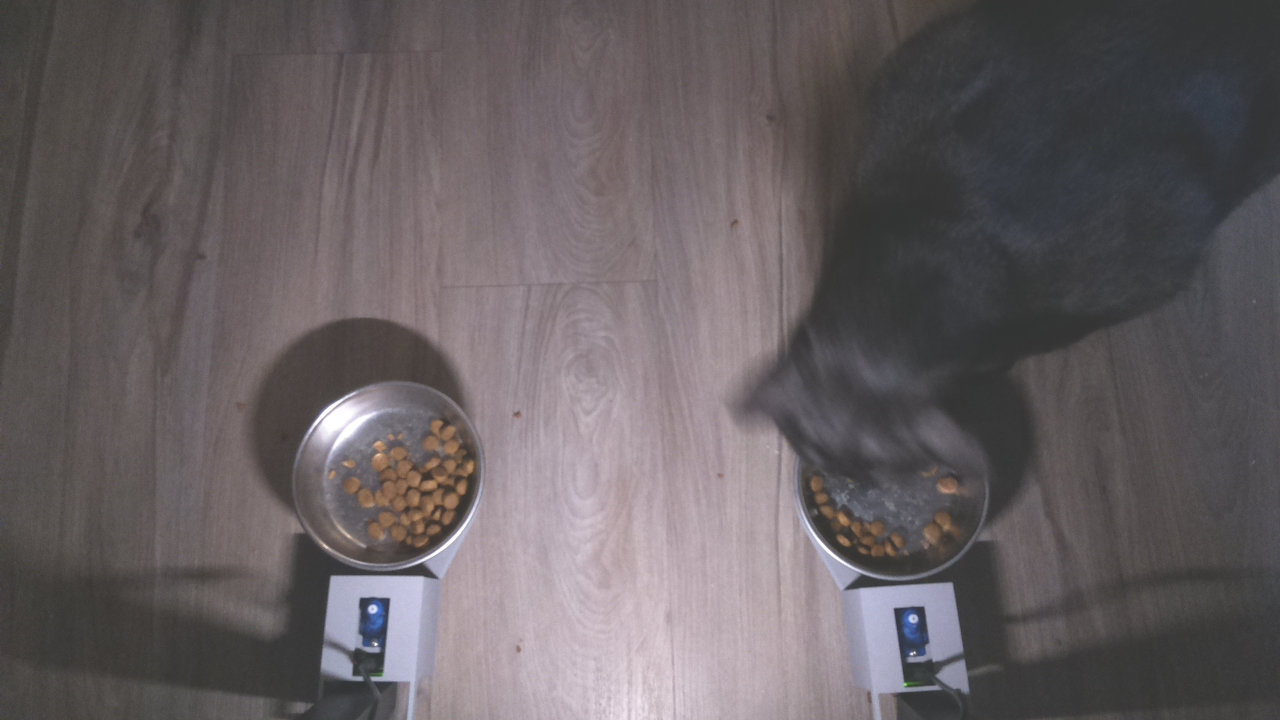open_bowl: (289, 379, 484, 573)
saki: (700, 262, 1007, 475)
